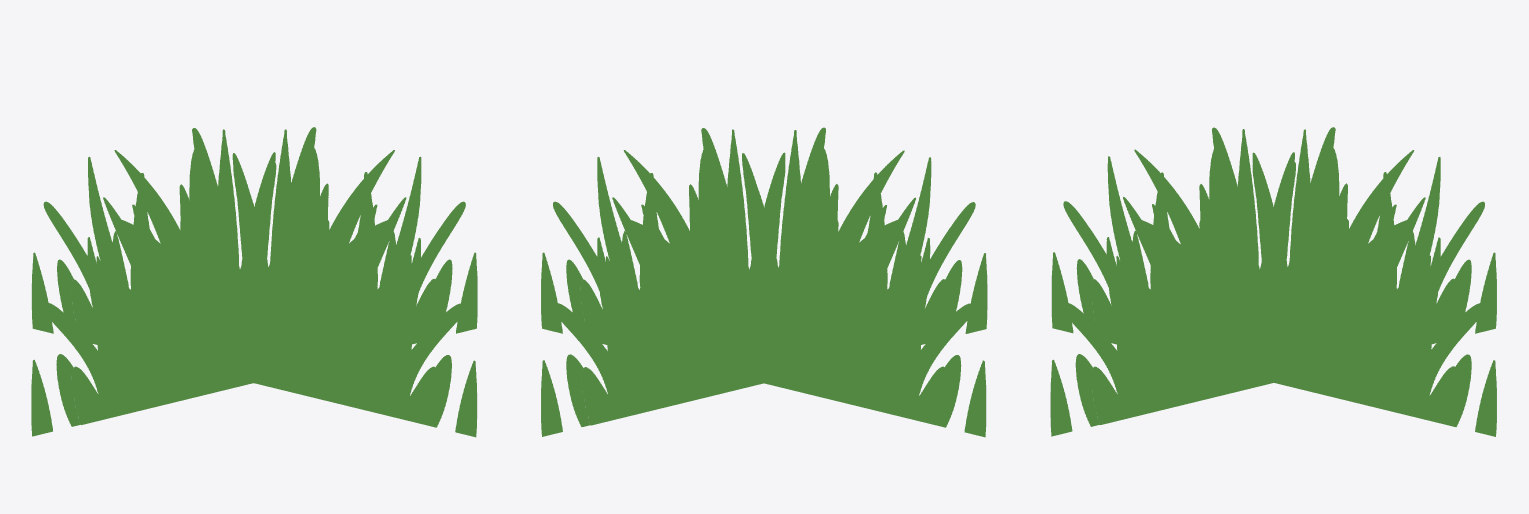
The model's file is Grass_01.fbx.
The picture shows the model from 3 angles, left to right: view 1: azimuth 30°, elevation 25°; view 2: azimuth 150°, elevation 25°; view 3: azimuth 270°, elevation 25°; orthographic projection.
Visible parts, largest first — view 1: Grass_01_LOD0; view 2: Grass_01_LOD0; view 3: Grass_01_LOD0.
Part boxes in pixels (bbox=[...]): Grass_01_LOD0: bbox=[31, 127, 477, 437]; Grass_01_LOD0: bbox=[541, 127, 987, 437]; Grass_01_LOD0: bbox=[1050, 127, 1496, 436].
Size of what is drawn, in the model's own units: 0.5621 by 0.2817 by 0.4879.
